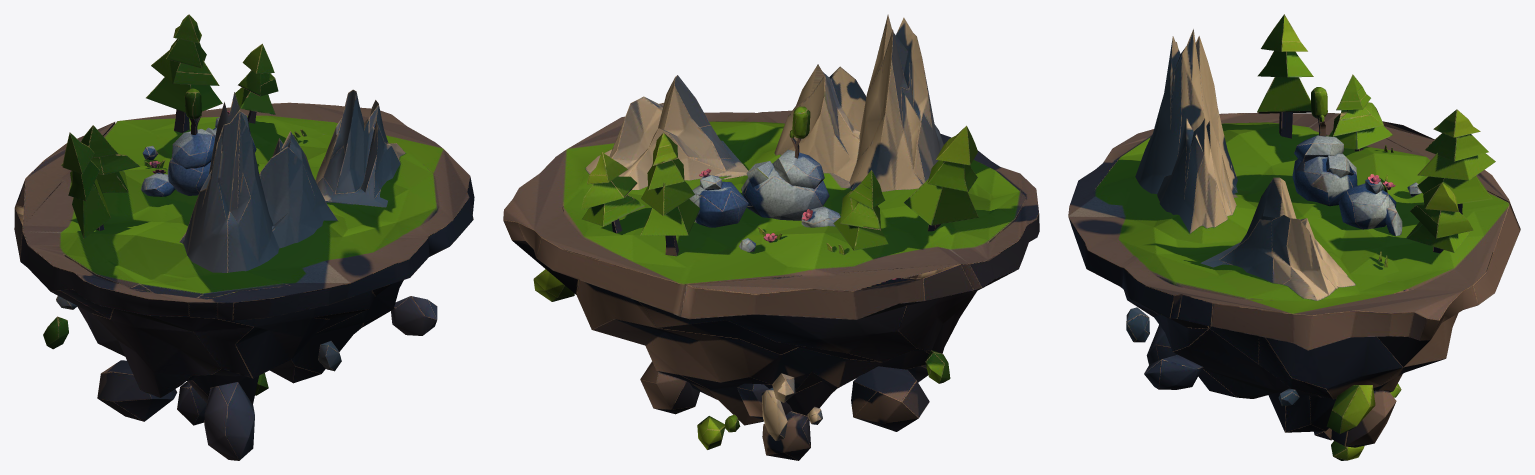
Rendered from island_2.glb.
The picture shows the model from 3 angles, left to right: view 1: azimuth 30°, elevation 25°; view 2: azimuth 150°, elevation 25°; view 3: azimuth 270°, elevation 25°; orthographic projection. The views are drawn at different scales.
Visible parts, largest first — view 1: Object_2; view 2: Object_2; view 3: Object_2.
Boxes of the visible parts, box(x1,y1,x2,y2) form: Object_2: box(14, 14, 474, 460); Object_2: box(503, 14, 1039, 460); Object_2: box(1068, 14, 1520, 460).
Size of the model in its own units: 307 by 265 by 278.
Materials: 1 (1 with a texture image).
